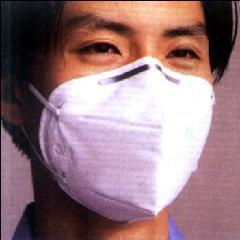face_mask: (41, 0, 218, 200)
